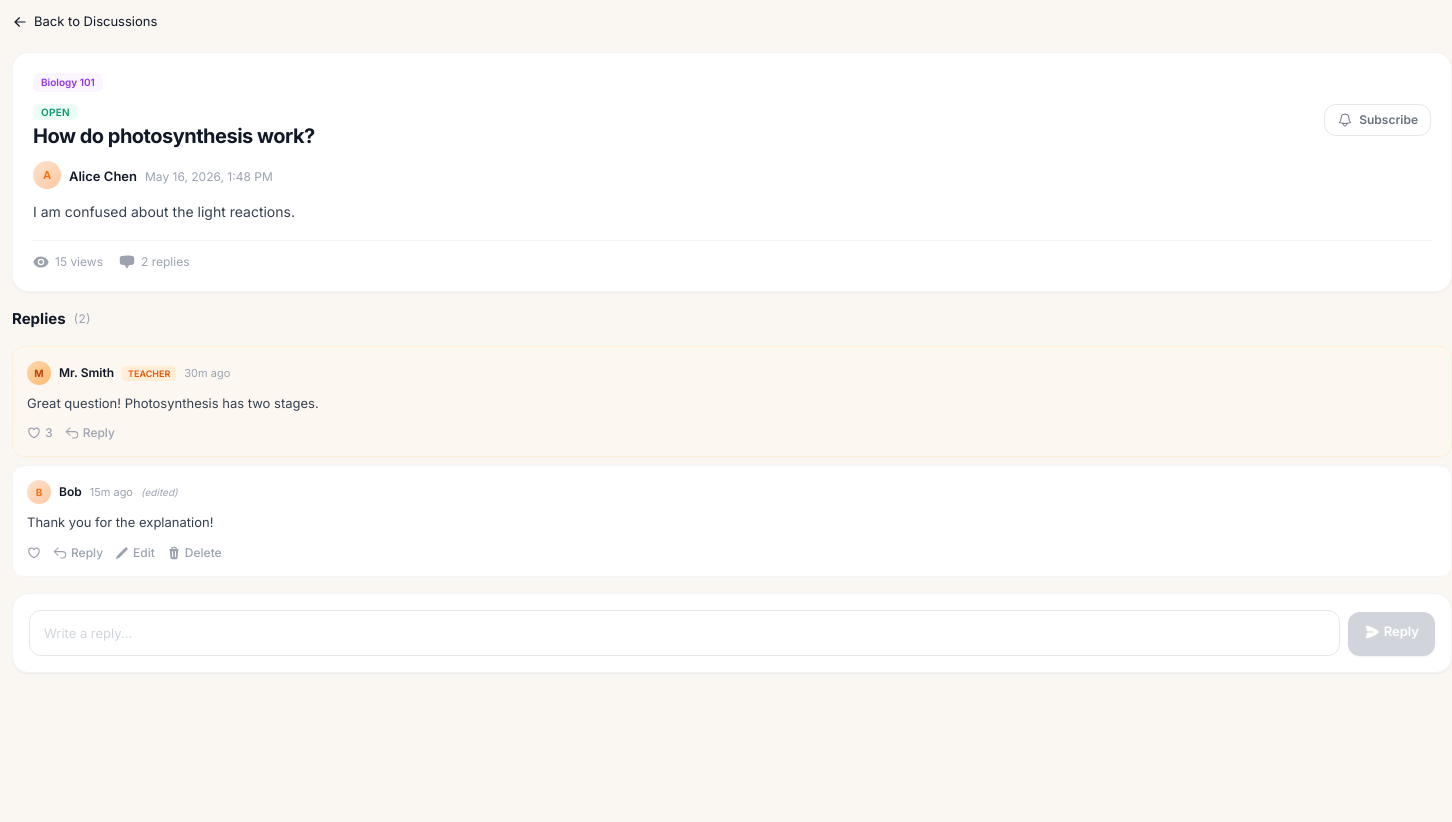
Test: StudentDiscussionThreadPage › clears the "Replying to" banner when its X button is clicked
The width and height of the screenshot is (1452, 822).
Expected: the text "Mr. Smith" is shown, [59,364,114,382]
Click the submit button. click: (90, 433)
box: [65,424,115,442]
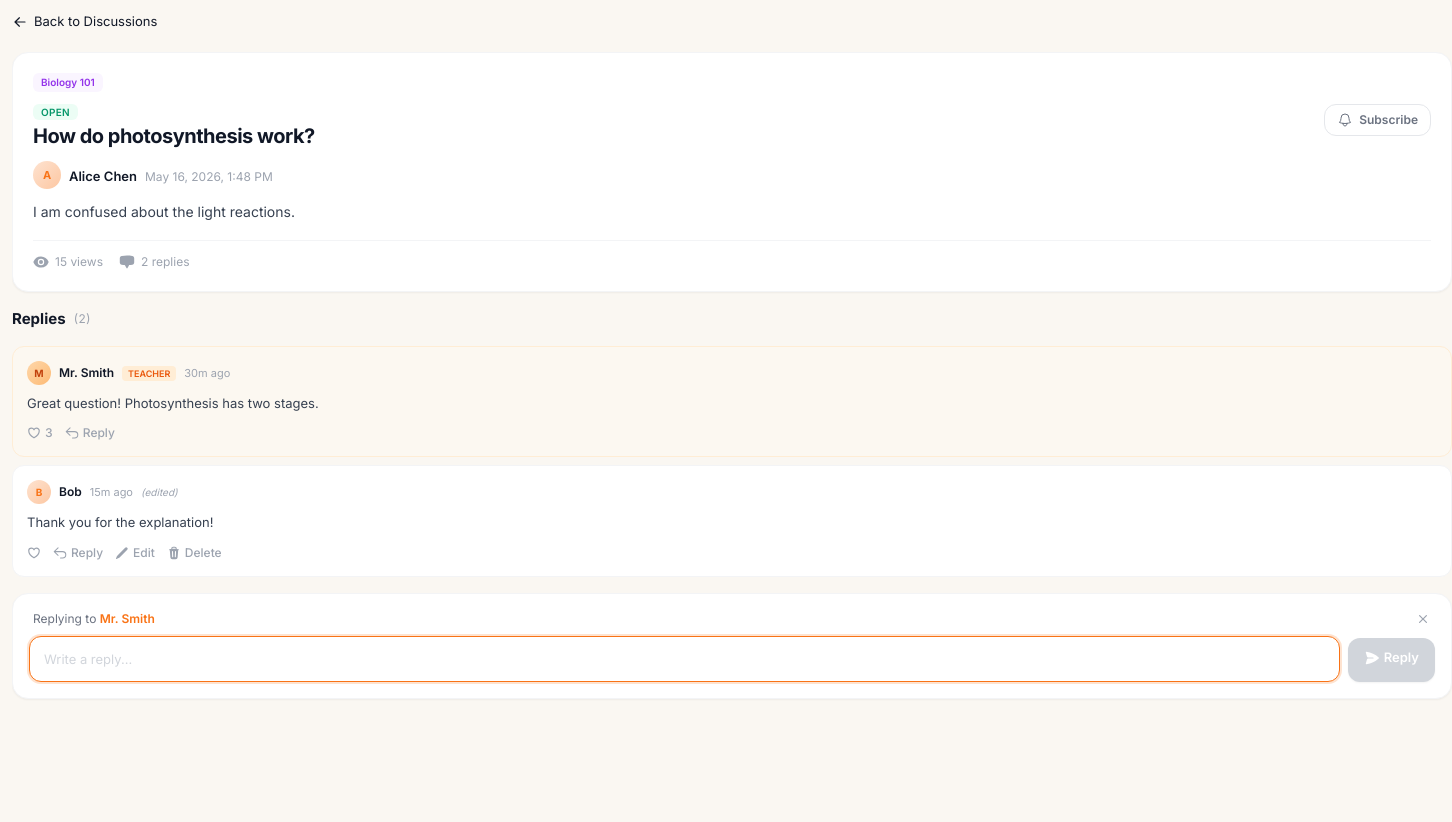
Result: the text "Replying to Mr. Smith" is shown at [33,610,155,628]
# The close button is a sibling of the "Replying to" span inside the banner row
Click the button without text in the row of "Replying to". click: (1423, 618)
box: [1415,610,1431,626]
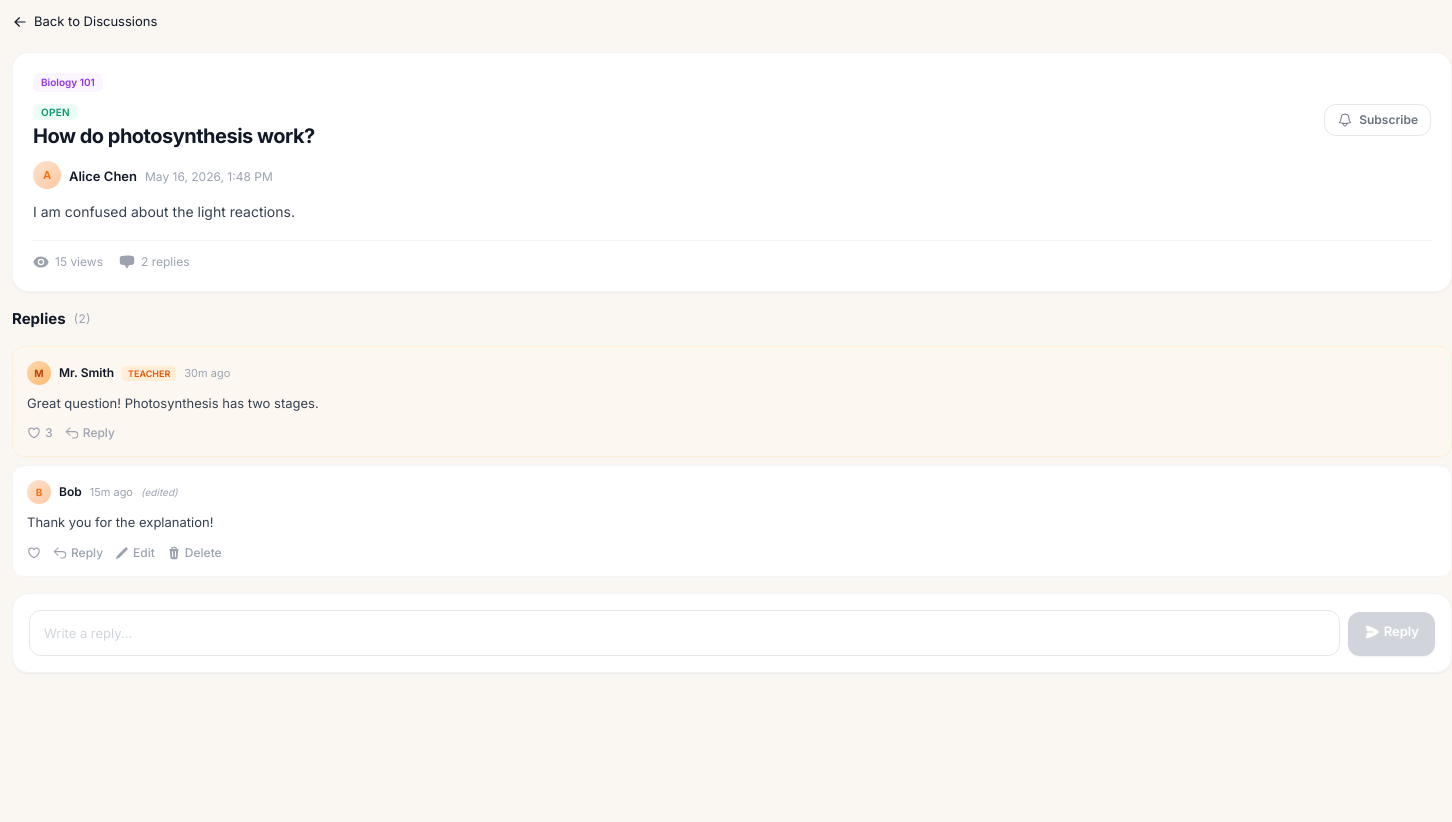
Result: the text "Replying to" is gone
